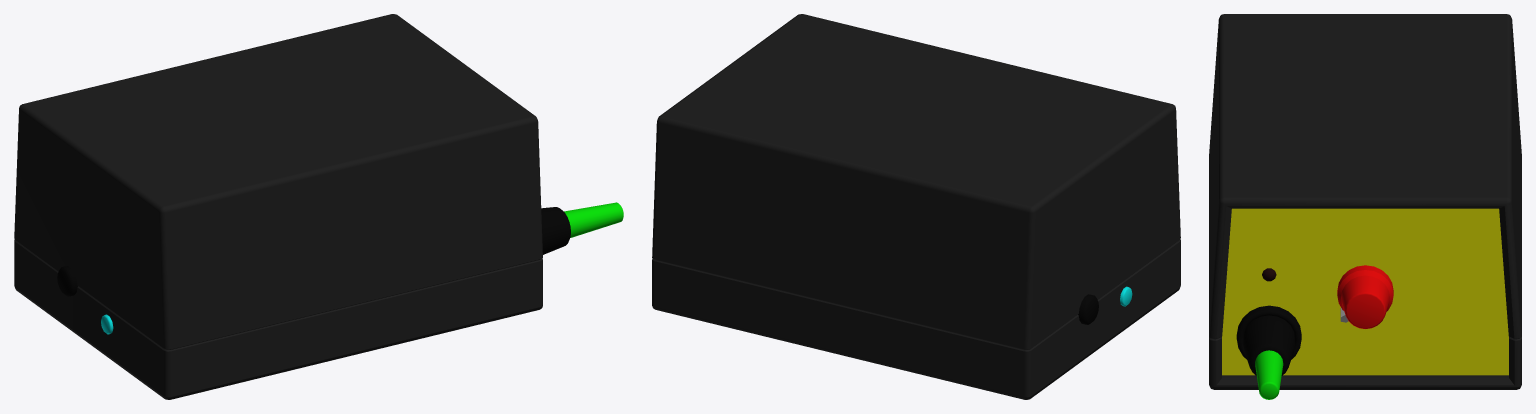
The model's file is Паяльная станция.fbx.
3 renders of one model, left to right at view 1: azimuth 30°, elevation 25°; view 2: azimuth 150°, elevation 25°; view 3: azimuth 270°, elevation 25°, orthographic.
Parts seen in each view (by area): view 1: Payalnaya_stancia_korpus; view 2: Payalnaya_stancia_korpus; view 3: Payalnaya_stancia_korpus, Switcher_Payalnaya_stancia.
Part boxes in pixels (x1,y1,x2,y2): Payalnaya_stancia_korpus: (14, 14, 623, 399); Payalnaya_stancia_korpus: (652, 14, 1180, 399); Payalnaya_stancia_korpus: (1209, 14, 1521, 399); Switcher_Payalnaya_stancia: (1337, 265, 1393, 328).
Size of the model in its own units: 21.97 by 8.88 by 12.
